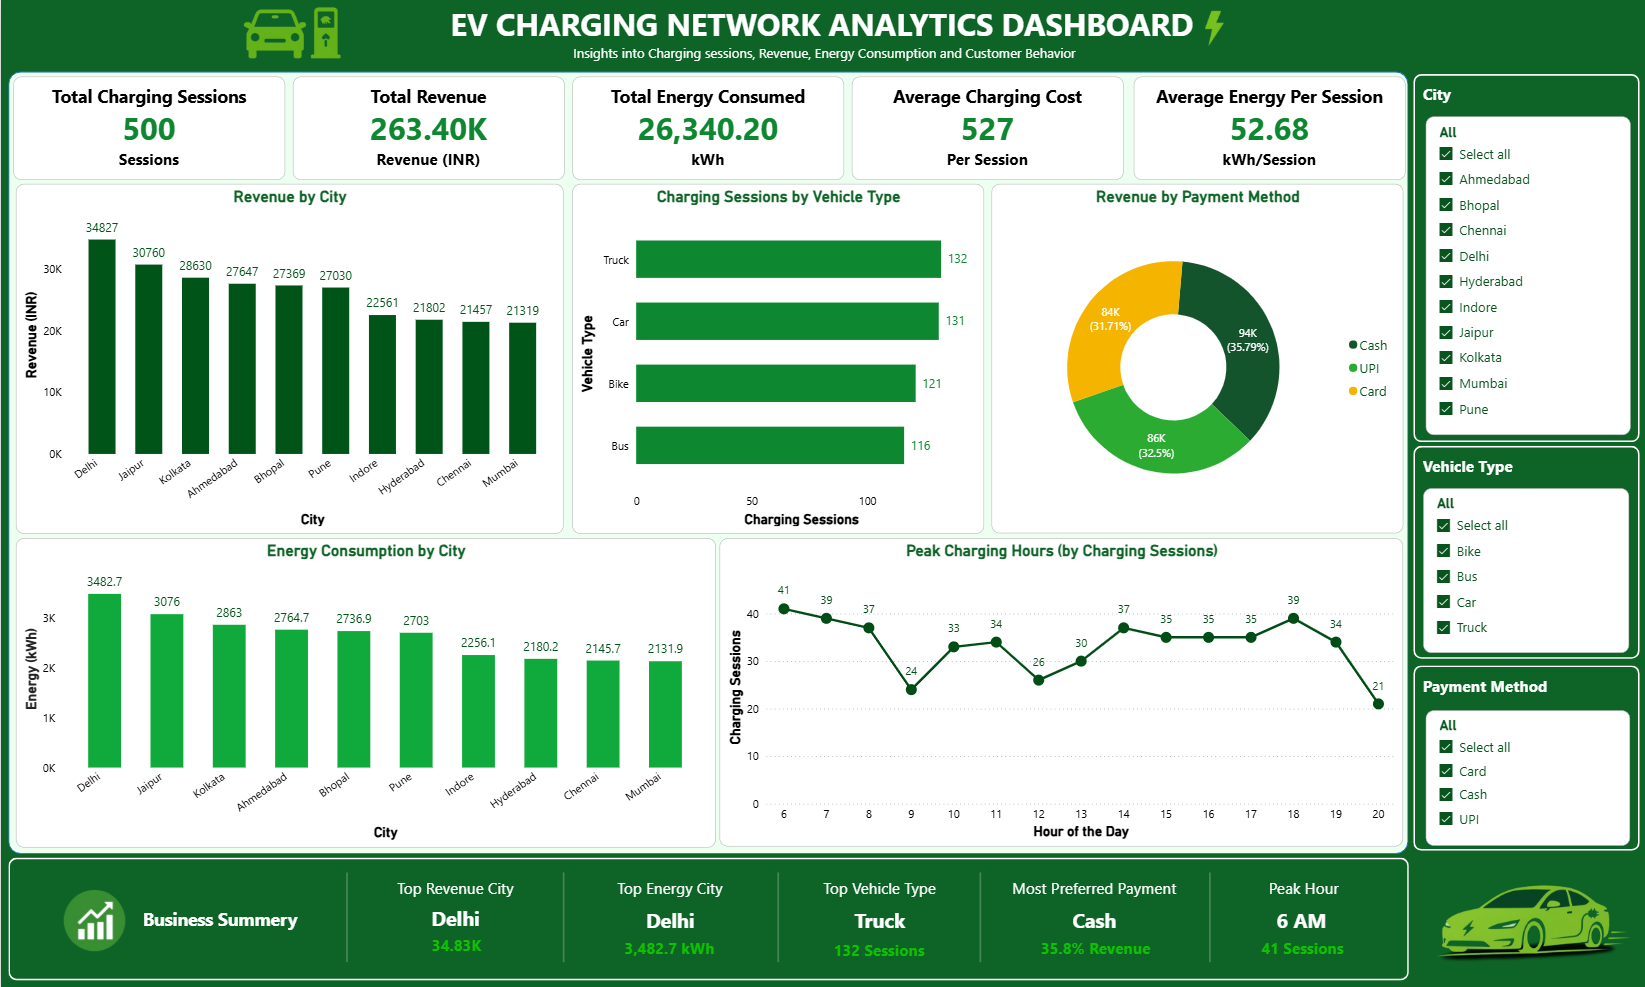

The dashboard page shown, as its layout file describes it:
{"tool":"powerbi","page":{"name":"Page 1","canvas":[2000,1200],"ordinal":0},"visuals":[{"type":"shape","box":[1715.7,807.9,275,225],"z":0,"group":"g10"},{"type":"shape","box":[1714.8,542.8,275,258.6],"z":1000,"group":"g9"},{"type":"shape","box":[1714.3,90,275,447.1],"z":2000,"group":"g8"},{"type":"textbox","box":[501.9,0,998,68.8],"z":3000},{"type":"textbox","box":[599.4,48.8,800.1,40.2],"z":4000},{"type":"shape","box":[8.8,88.2,1700,950],"z":5000},{"type":"textbox","box":[13.6,92.7,330,125.5],"z":6000},{"type":"textbox","box":[354,92.5,330,125.8],"z":7000},{"type":"textbox","box":[694.3,92.5,330,125.8],"z":8000},{"type":"textbox","box":[1034.7,92.7,330,125.5],"z":9000},{"type":"textbox","box":[1375,92.5,330,125.8],"z":10000},{"type":"clusteredColumnChart","title":"Revenue by City","fields":{"Category":["Table2.City"],"Y":["Table2.Total Revenue"]},"box":[16.7,223.3,665,425],"z":11000},{"type":"barChart","title":"Charging Sessions by Vehicle Type","fields":{"Category":["Table2.Vehicle_Type"],"Y":["Table2.Total Charging Sessions"]},"box":[693.9,222.8,500,425],"z":12000},{"type":"donutChart","title":"Revenue by Payment Method","fields":{"Category":["Table2.Payment_Method"],"Y":["Table2.Total Revenue"]},"box":[1204.3,222.9,500,424.3],"z":13000},{"type":"clusteredColumnChart","title":"Energy Consumption by City","fields":{"Category":["Table2.City"],"Y":["Table2.Total Energy"]},"box":[17.8,653.3,850,375.6],"z":14000},{"type":"lineChart","title":"Peak Charging Hours (by Charging Sessions)","fields":{"Category":["Table2.Charging Hour"],"Y":["CountNonNull(Table2.Station_ID)"]},"box":[873.3,653.3,830,374.4],"z":15000},{"type":"textbox","box":[1718.8,92.5,122.5,46.2],"z":16000,"group":"g8"},{"type":"slicer","title":"City","fields":{"Values":["Table2.City"]},"box":[1730,141.4,248.6,387.1],"z":17000,"group":"g8"},{"type":"textbox","box":[1717.7,547.1,135.7,45.7],"z":18000,"group":"g9"},{"type":"textbox","box":[1718.9,811.2,173.3,45.6],"z":19000,"group":"g10"},{"type":"slicer","fields":{"Values":["Table2.Payment_Method"]},"box":[1730,861.5,247.9,164.3],"z":20000,"group":"g10"},{"type":"shape","box":[8.6,1043.9,1700.7,149.1],"z":21000},{"type":"textbox","box":[163.5,1092.7,218,48.7],"z":22000},{"type":"group","id":"g1","title":"Group 2","box":[1418.9,1057.8,275.6,115.7],"z":23000},{"type":"shape","box":[370,1061.1,101.1,108.9],"z":23000,"group":"g5"},{"type":"group","id":"g2","title":"Group 4","box":[1140,1058.9,299.9,117.6],"z":24000},{"type":"textbox","box":[443.3,1058.9,220,54.3],"z":25000,"group":"g6"},{"type":"group","id":"g3","title":"Group 6","box":[894.4,1058.9,283.4,117.6],"z":25000},{"type":"group","id":"g4","title":"Group 8","box":[634.4,1058.9,290.1,117.6],"z":26000},{"type":"textbox","box":[443.3,1093.2,220,50],"z":26000,"group":"g6"},{"type":"group","id":"g5","title":"Group 10","box":[370,1058.9,293.3,114.4],"z":27000},{"type":"textbox","box":[490.4,1128.9,125.7,44.3],"z":27000,"group":"g6"},{"type":"slicer","fields":{"Values":["Table2.Vehicle_Type"]},"box":[1728.2,593.7,250,200],"z":28000,"group":"g9"},{"type":"shape","box":[634.4,1061.1,100,108.9],"z":28000,"group":"g4"},{"type":"shape","box":[79.1,1084.5,70,70],"z":28500,"group":"g7"},{"type":"group","id":"g6","title":"Group 9","box":[443.3,1058.9,220,114.4],"z":29000,"group":"g5"},{"type":"textbox","box":[704.5,1058.9,220,54.3],"z":29000,"group":"g11"},{"type":"group","id":"g7","title":"Group 11","box":[62.7,1080.9,100,74.5],"z":29000},{"type":"image","box":[62.7,1080.9,100,74.5],"z":29000,"group":"g7"},{"type":"image","box":[230.8,0,246.7,82.5],"z":30000},{"type":"textbox","box":[704.5,1094.6,220,50],"z":30000,"group":"g11"},{"type":"image","box":[1435,11.7,75,48.3],"z":31000},{"type":"textbox","box":[738.9,1130.6,152,45.9],"z":31000,"group":"g11"},{"type":"group","id":"g8","title":"Group 12","box":[1714.3,90,275,447.1],"z":31001},{"type":"group","id":"g9","title":"Group 13","box":[1714.8,542.8,275,258.6],"z":31002},{"type":"group","id":"g10","title":"Group 14","box":[1715.7,807.9,275,225],"z":31003},{"type":"image","box":[1709.3,1026.7,289.7,172.1],"z":31004},{"type":"group","id":"g11","title":"Group 7","box":[704.5,1058.9,220,117.6],"z":32000,"group":"g4"},{"type":"shape","box":[894.4,1061.1,100,108.9],"z":32000,"group":"g3"},{"type":"textbox","box":[957.8,1058.9,220,54.3],"z":33000,"group":"g12"},{"type":"textbox","box":[957.8,1094.6,220,50],"z":34000,"group":"g12"},{"type":"group","id":"g12","title":"Group 5","box":[957.8,1058.9,220,117.6],"z":35000,"group":"g3"},{"type":"textbox","box":[992.2,1133.5,152,43],"z":35000,"group":"g12"},{"type":"shape","box":[1140,1061.1,100,108.9],"z":36000,"group":"g2"},{"type":"textbox","box":[1219.9,1058.9,220,54.3],"z":37000,"group":"g13"},{"type":"group","id":"g13","title":"Group 3","box":[1219.9,1058.9,220,117.6],"z":38000,"group":"g2"},{"type":"textbox","box":[1219.9,1094.6,220,50],"z":38000,"group":"g13"},{"type":"textbox","box":[1242.8,1130.6,174.9,45.9],"z":39000,"group":"g13"},{"type":"shape","box":[1418.9,1061.1,100,108.9],"z":40000,"group":"g1"},{"type":"textbox","box":[1474.4,1057.8,220,54.4],"z":41000,"group":"g14"},{"type":"textbox","box":[1471.1,1093.5,220,50],"z":42000,"group":"g14"},{"type":"textbox","box":[1506.8,1129.2,150,44.3],"z":43000,"group":"g14"},{"type":"group","id":"g14","title":"Group 1","box":[1471.1,1057.8,223.3,115.7],"z":43001,"group":"g1"}]}

Visuals, with their boxes in screenshot pixels (x1, y1, x2, y2), scaled from the page's 2000x1200 canvas onto the 1645x987 screenshot:
shape: (1411, 664, 1637, 850)
shape: (1410, 446, 1637, 659)
shape: (1410, 74, 1636, 442)
textbox: (413, 0, 1234, 57)
textbox: (493, 40, 1151, 73)
shape: (7, 73, 1405, 854)
textbox: (11, 76, 283, 179)
textbox: (291, 76, 563, 180)
textbox: (571, 76, 842, 180)
textbox: (851, 76, 1122, 179)
textbox: (1131, 76, 1402, 180)
"Revenue by City" clusteredColumnChart: (14, 184, 561, 533)
"Charging Sessions by Vehicle Type" barChart: (571, 183, 982, 533)
"Revenue by Payment Method" donutChart: (991, 183, 1402, 532)
"Energy Consumption by City" clusteredColumnChart: (15, 537, 714, 846)
"Peak Charging Hours (by Charging Sessions)" lineChart: (718, 537, 1401, 845)
textbox: (1414, 76, 1514, 114)
"City" slicer: (1423, 116, 1627, 435)
textbox: (1413, 450, 1524, 488)
textbox: (1414, 667, 1556, 705)
slicer - Table2.Payment_Method: (1423, 709, 1627, 844)
shape: (7, 859, 1406, 981)
textbox: (134, 899, 314, 939)
"Group 2" group: (1167, 870, 1394, 965)
shape: (304, 873, 387, 962)
"Group 4" group: (938, 871, 1184, 968)
textbox: (365, 871, 546, 916)
"Group 6" group: (736, 871, 969, 968)
"Group 8" group: (522, 871, 760, 968)
textbox: (365, 899, 546, 940)
"Group 10" group: (304, 871, 546, 965)
textbox: (403, 929, 507, 965)
slicer - Table2.Vehicle_Type: (1421, 488, 1627, 653)
shape: (522, 873, 604, 962)
shape: (65, 892, 123, 950)
"Group 9" group: (365, 871, 546, 965)
textbox: (579, 871, 760, 916)
"Group 11" group: (52, 889, 134, 950)
image: (52, 889, 134, 950)
image: (190, 0, 393, 68)
textbox: (579, 900, 760, 941)
image: (1180, 10, 1242, 49)
textbox: (608, 930, 733, 968)
"Group 12" group: (1410, 74, 1636, 442)
"Group 13" group: (1410, 446, 1637, 659)
"Group 14" group: (1411, 664, 1637, 850)
image: (1406, 844, 1644, 986)
"Group 7" group: (579, 871, 760, 968)
shape: (736, 873, 818, 962)
textbox: (788, 871, 969, 916)
textbox: (788, 900, 969, 941)
"Group 5" group: (788, 871, 969, 968)
textbox: (816, 932, 941, 968)
shape: (938, 873, 1020, 962)
textbox: (1003, 871, 1184, 916)
"Group 3" group: (1003, 871, 1184, 968)
textbox: (1003, 900, 1184, 941)
textbox: (1022, 930, 1166, 968)
shape: (1167, 873, 1249, 962)
textbox: (1213, 870, 1394, 915)
textbox: (1210, 899, 1391, 941)
textbox: (1239, 929, 1363, 965)
"Group 1" group: (1210, 870, 1394, 965)
